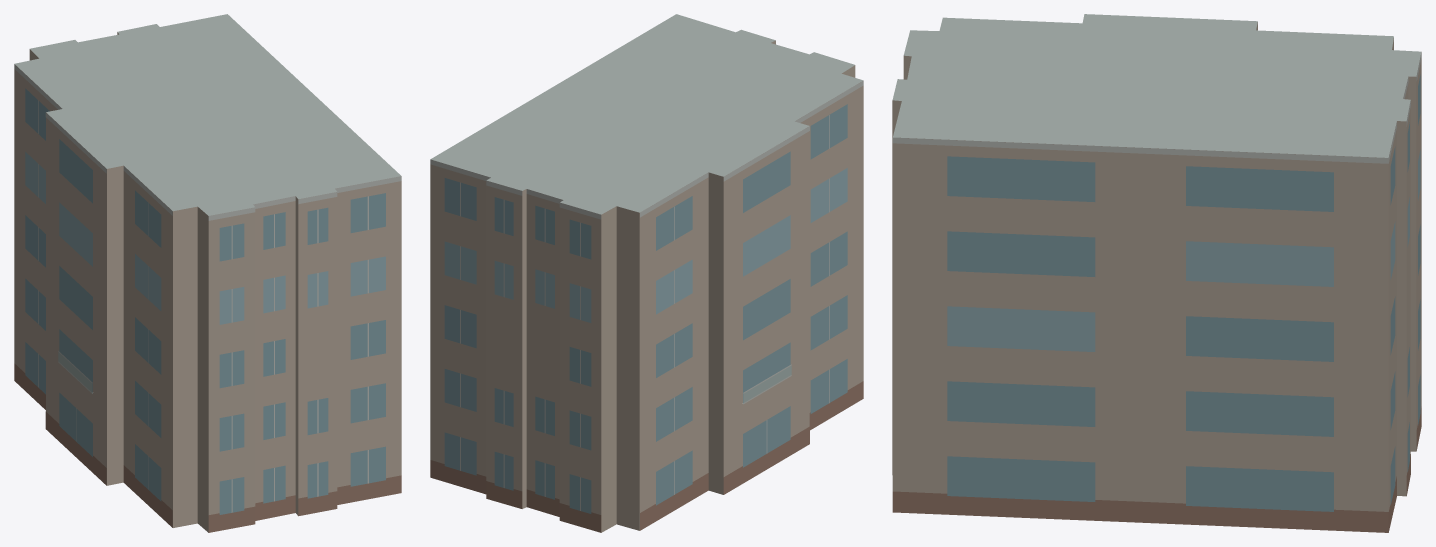
Rendered from survey-upis-32595463.glb.
The picture shows the model from 3 angles, left to right: view 1: azimuth 30°, elevation 25°; view 2: azimuth 150°, elevation 25°; view 3: azimuth 270°, elevation 25°; orthographic projection. The views are drawn at different scales.
Visible parts, largest first — view 1: survey-upis-32595463.tmp; view 2: survey-upis-32595463.tmp; view 3: survey-upis-32595463.tmp.
Part boxes in pixels (x1,y1,x2,y2): survey-upis-32595463.tmp: [14, 14, 401, 532]; survey-upis-32595463.tmp: [430, 14, 863, 532]; survey-upis-32595463.tmp: [892, 14, 1421, 532].
Size of the model in its own units: 12.81 by 15.55 by 19.9.
